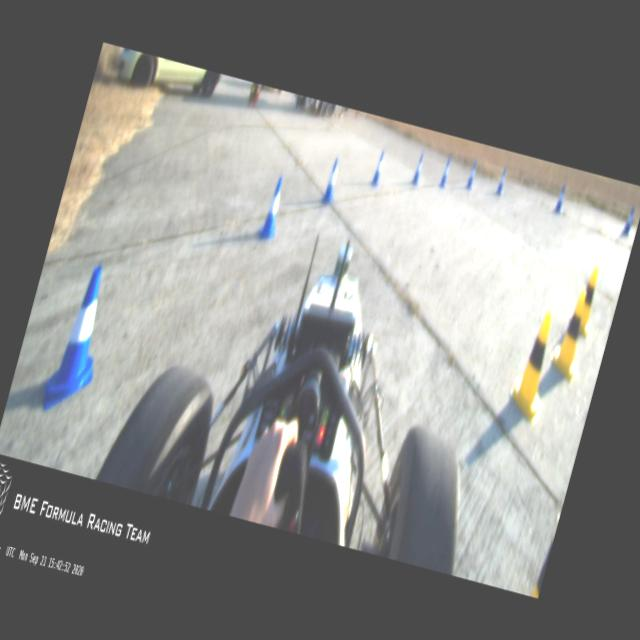blue_cone: (36, 258, 122, 422), (256, 175, 290, 242), (320, 156, 344, 206), (369, 149, 387, 188), (410, 152, 426, 186), (552, 182, 568, 214), (620, 205, 636, 237), (464, 158, 479, 190), (438, 155, 452, 187), (494, 166, 508, 196)
yellow_cone: (502, 302, 568, 427), (544, 284, 598, 384), (572, 262, 608, 341)
